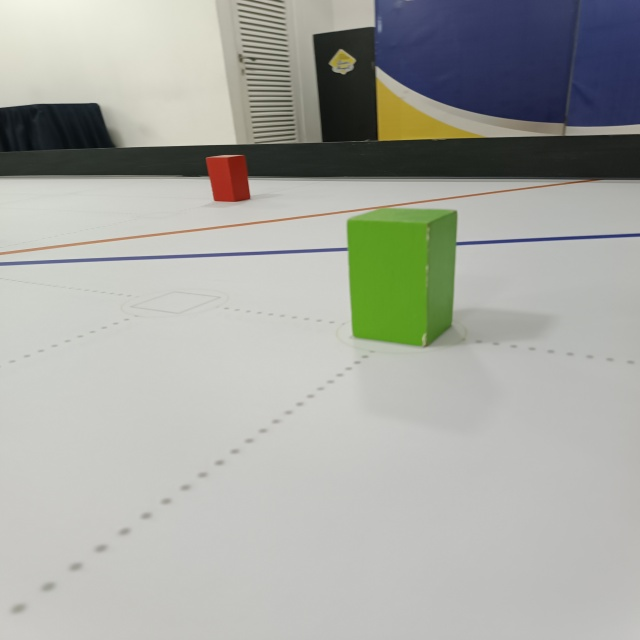blue line: (0, 233, 636, 272)
green rectangular prism: (340, 207, 458, 352)
orange line: (0, 179, 601, 262)
red rectangular prism: (205, 155, 250, 202)
